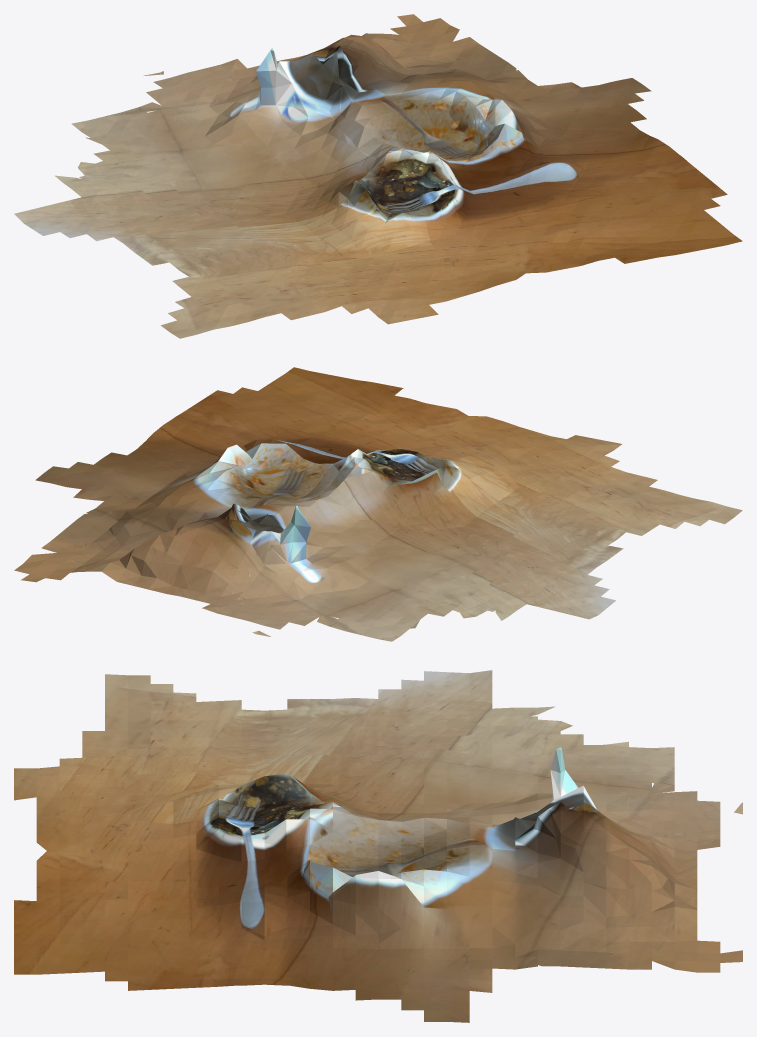
File: bowl.glb
The picture shows the model from 3 angles, top to bottom: view 1: azimuth 30°, elevation 25°; view 2: azimuth 150°, elevation 25°; view 3: azimuth 270°, elevation 25°; orthographic projection. The views are drawn at different scales.
Visible parts, largest first — view 1: textured_output; view 2: textured_output; view 3: textured_output.
Part boxes in pixels (x1,y1,x2,y2): textured_output: (14, 14, 742, 338); textured_output: (14, 367, 742, 641); textured_output: (14, 670, 742, 1022).
Size of the model in its own units: 0.72 by 0.09 by 0.64.
Materials: 1 (1 with a texture image).
